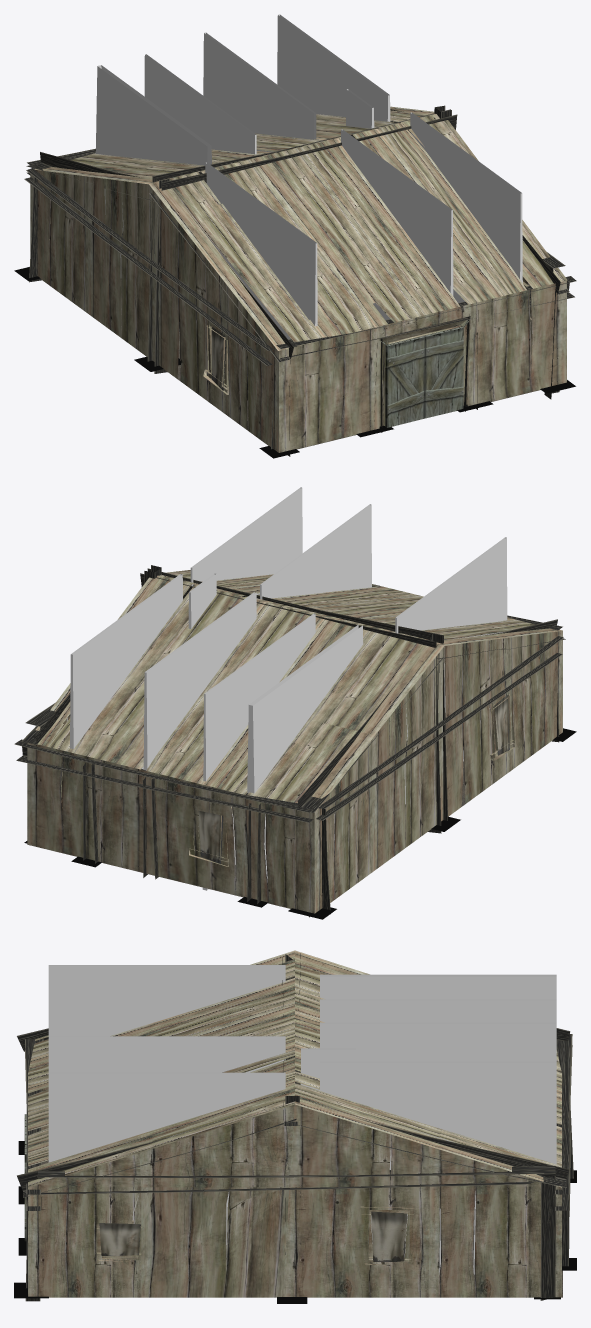
File: interior_shanty_npc_house.fbx
3 views of the same model, one above another, from view 1: azimuth 30°, elevation 25°; view 2: azimuth 150°, elevation 25°; view 3: azimuth 270°, elevation 25° (orthographic). The views are drawn at different scales.
Visible parts, largest first — view 1: npc_house_roofA, npc_house_wall1, npc_house_wall4, ray9, ray5, ray10, ray1, ray3, ray2, npc_house_roofB, ray7, door1 (+11 smaller); view 2: npc_house_wall1, npc_house_roofB, npc_house_wall3, ray10, ray3, ray9, ray7, npc_house_roofA, ray5, ray2, ray1, beam6 (+11 smaller); view 3: npc_house_wall2, ray3, npc_house_roofA, ray1, ray5, ray10, npc_house_roofB, ray2, ray9, ray7, beam5, beam8 (+7 smaller).
Part boxes in pixels (x1=…): npc_house_roofA: x1=149, y1=114, x2=567, y2=350; npc_house_wall1: x1=30, y1=170, x2=278, y2=452; npc_house_wall4: x1=279, y1=280, x2=566, y2=452; ray9: x1=95, y1=65, x2=211, y2=277; ray5: x1=205, y1=162, x2=317, y2=339; ray10: x1=203, y1=32, x2=316, y2=154; ray1: x1=410, y1=112, x2=522, y2=302; ray3: x1=277, y1=14, x2=390, y2=140; ray2: x1=341, y1=129, x2=453, y2=319; npc_house_roofB: x1=34, y1=106, x2=435, y2=184; ray7: x1=144, y1=54, x2=256, y2=154; door1: x1=385, y1=336, x2=425, y2=427; npc_house_wall1: x1=314, y1=631, x2=562, y2=913; npc_house_roofB: x1=35, y1=576, x2=444, y2=811; npc_house_wall3: x1=27, y1=743, x2=314, y2=913; ray10: x1=143, y1=592, x2=256, y2=770; ray3: x1=70, y1=574, x2=182, y2=769; ray9: x1=247, y1=624, x2=363, y2=882; ray7: x1=202, y1=613, x2=315, y2=890; npc_house_roofA: x1=158, y1=570, x2=562, y2=645; ray5: x1=395, y1=537, x2=507, y2=804; ray2: x1=260, y1=504, x2=371, y2=631; ray1: x1=190, y1=487, x2=302, y2=616; beam6: x1=316, y1=636, x2=563, y2=820; npc_house_wall2: x1=28, y1=1104, x2=561, y2=1297; ray3: x1=320, y1=1061, x2=556, y2=1274; npc_house_roofA: x1=28, y1=950, x2=294, y2=1187; ray1: x1=48, y1=1072, x2=285, y2=1257; ray5: x1=48, y1=965, x2=285, y2=1036; ray10: x1=320, y1=1022, x2=556, y2=1061; npc_house_roofB: x1=295, y1=950, x2=561, y2=1187; ray2: x1=48, y1=1036, x2=285, y2=1072; ray9: x1=320, y1=974, x2=556, y2=999; ray7: x1=320, y1=999, x2=556, y2=1022; beam5: x1=37, y1=1165, x2=555, y2=1194; beam8: x1=298, y1=1118, x2=569, y2=1187.
Bounding box in the file's own units: 4370 × 2810 × 6304.
Materials: 6 (6 with a texture image).
